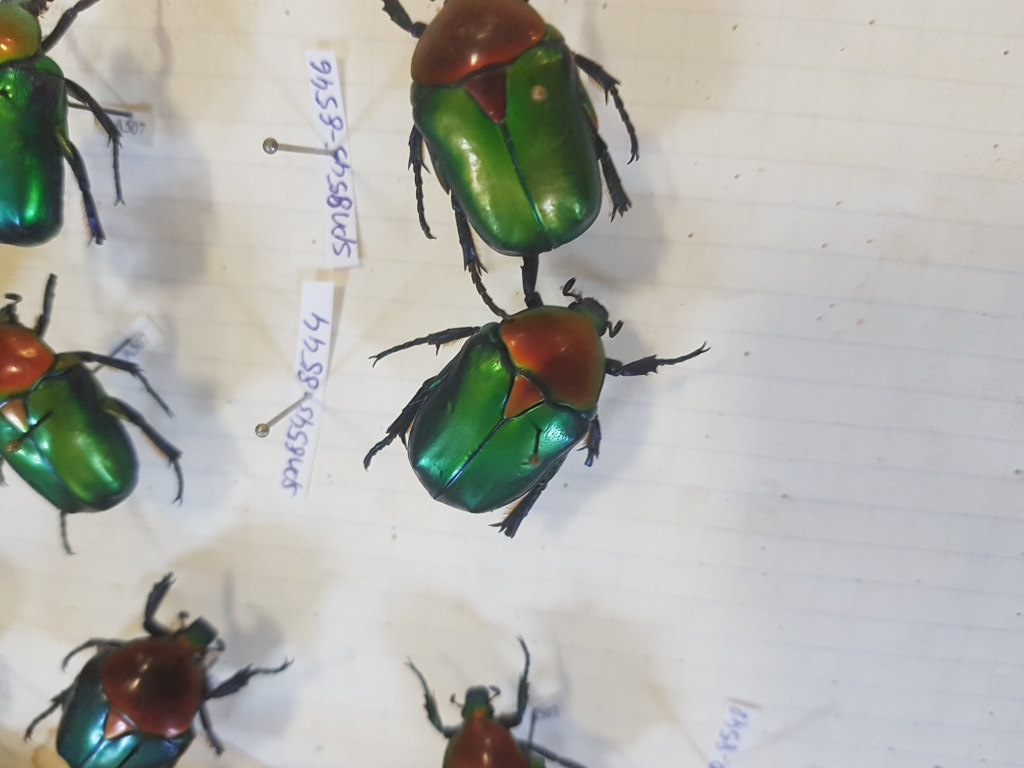Protaetia_speciosa_jousselini: (353, 241, 751, 539), (365, 1, 646, 270), (4, 545, 300, 768), (1, 242, 200, 557), (1, 1, 169, 281)
